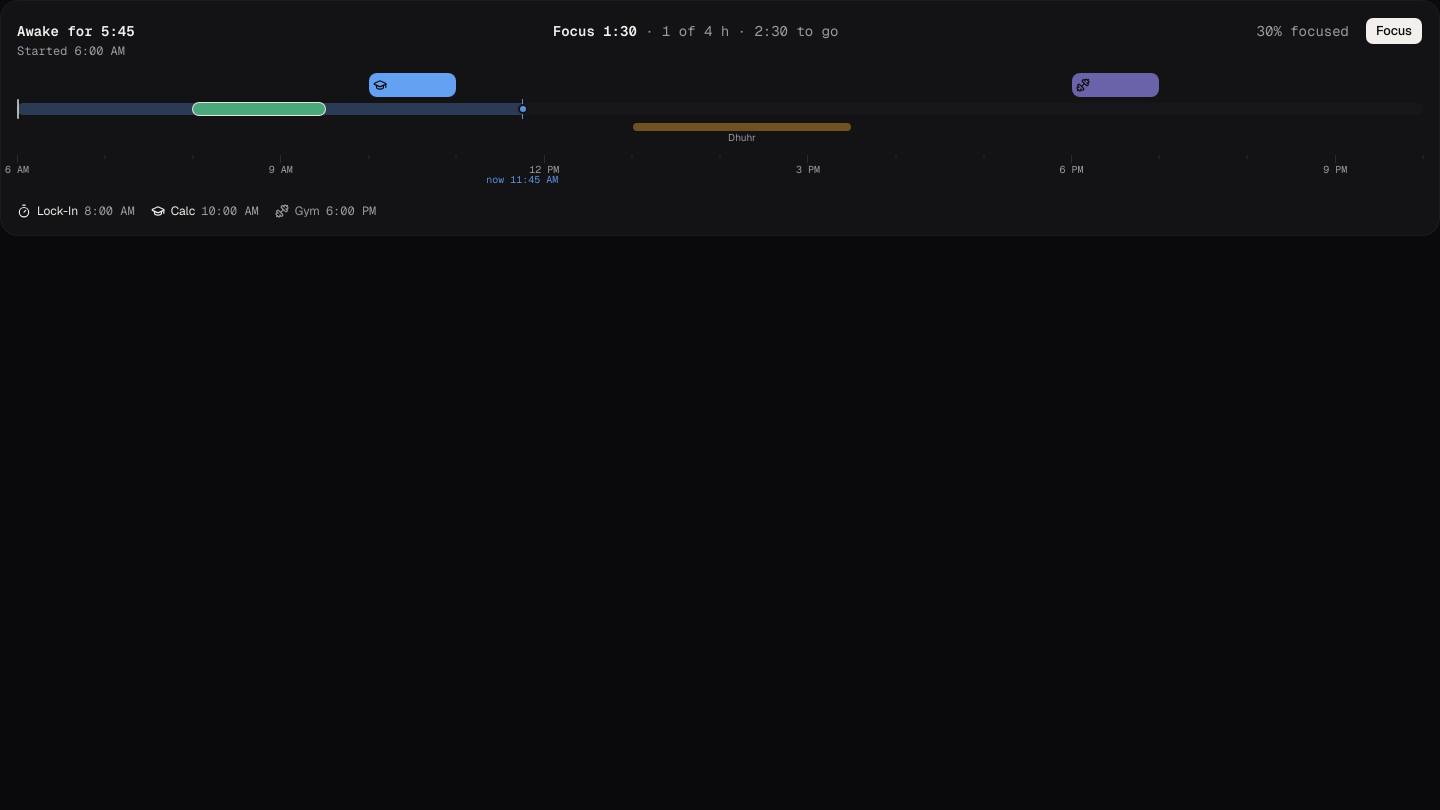
it: DayBar (HOME-02) › EVERY indicator opens a popover with its details: class, workout, focus block (and prayer, below)
Click the button named "Class: Calculus": (412, 85) [368, 73, 456, 97]
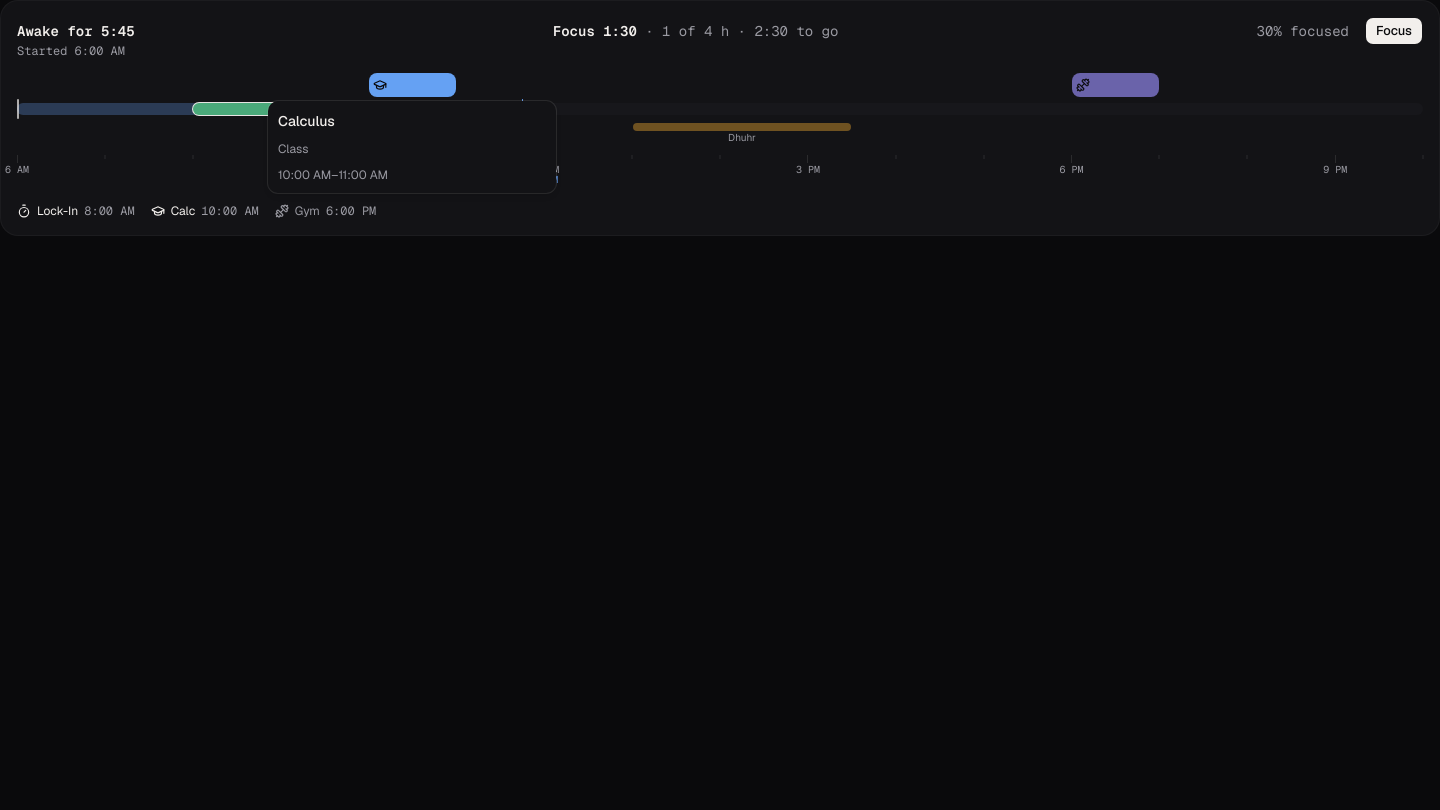
Result: the dialog with test id "indicator-popover" shows "Calculus" at [278, 112, 335, 130]
Result: the text with test id "indicator-time" reads "10:00 AM–11:00 AM" at [278, 167, 388, 183]
Press Escape
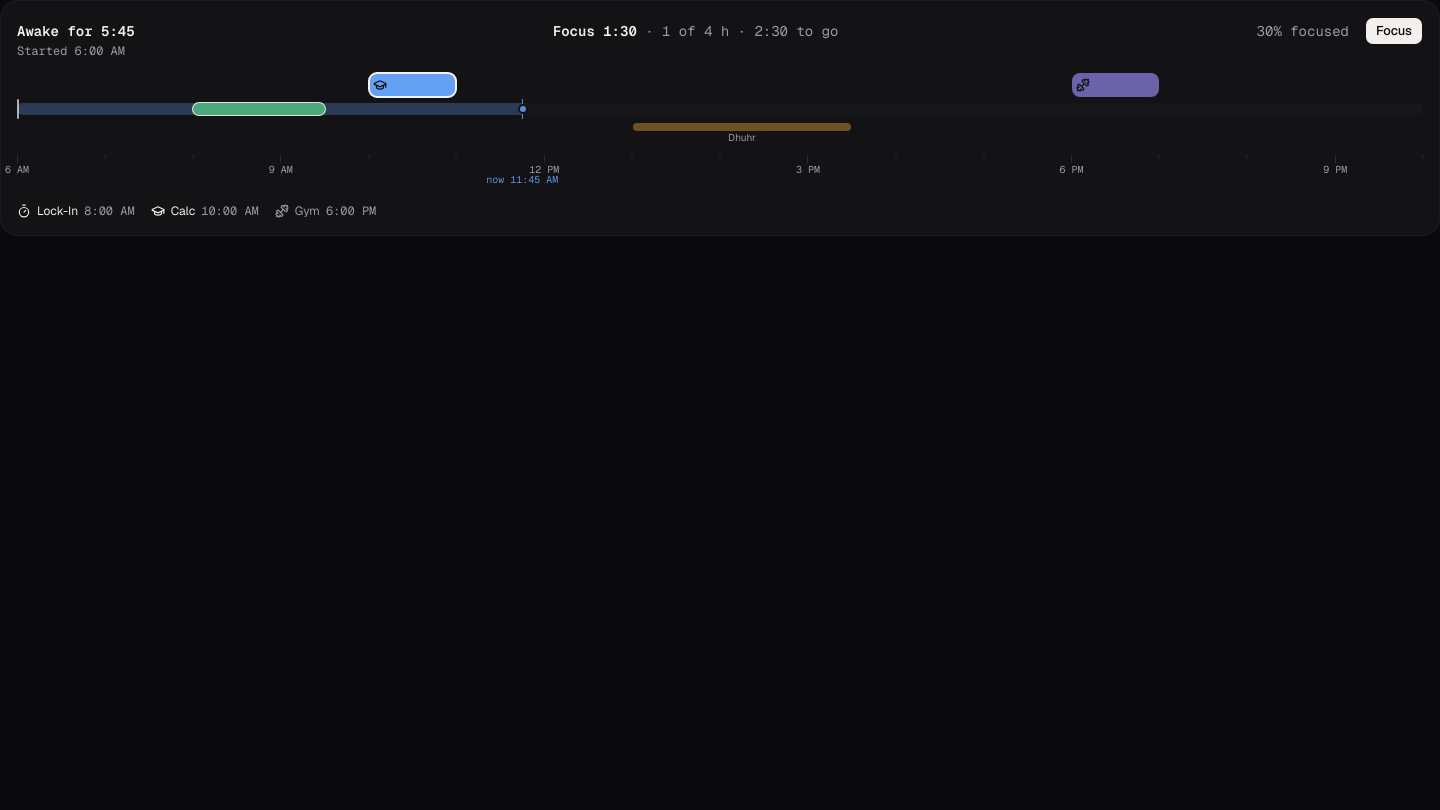
Click the button named "Workout: Gym": (1115, 85) [1072, 73, 1159, 97]
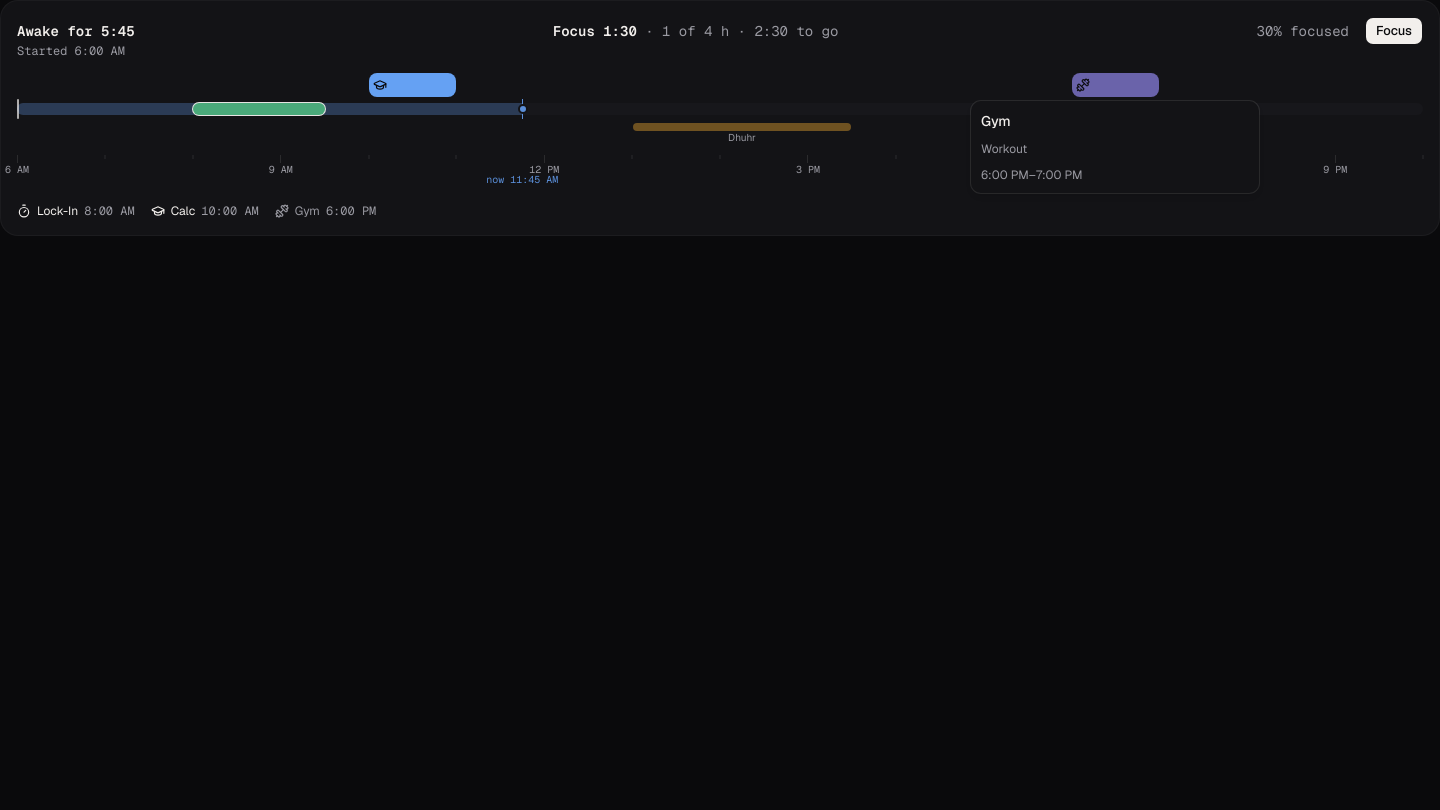
Result: the dialog with test id "indicator-popover" shows "Gym" at [981, 112, 1011, 130]
Press Escape
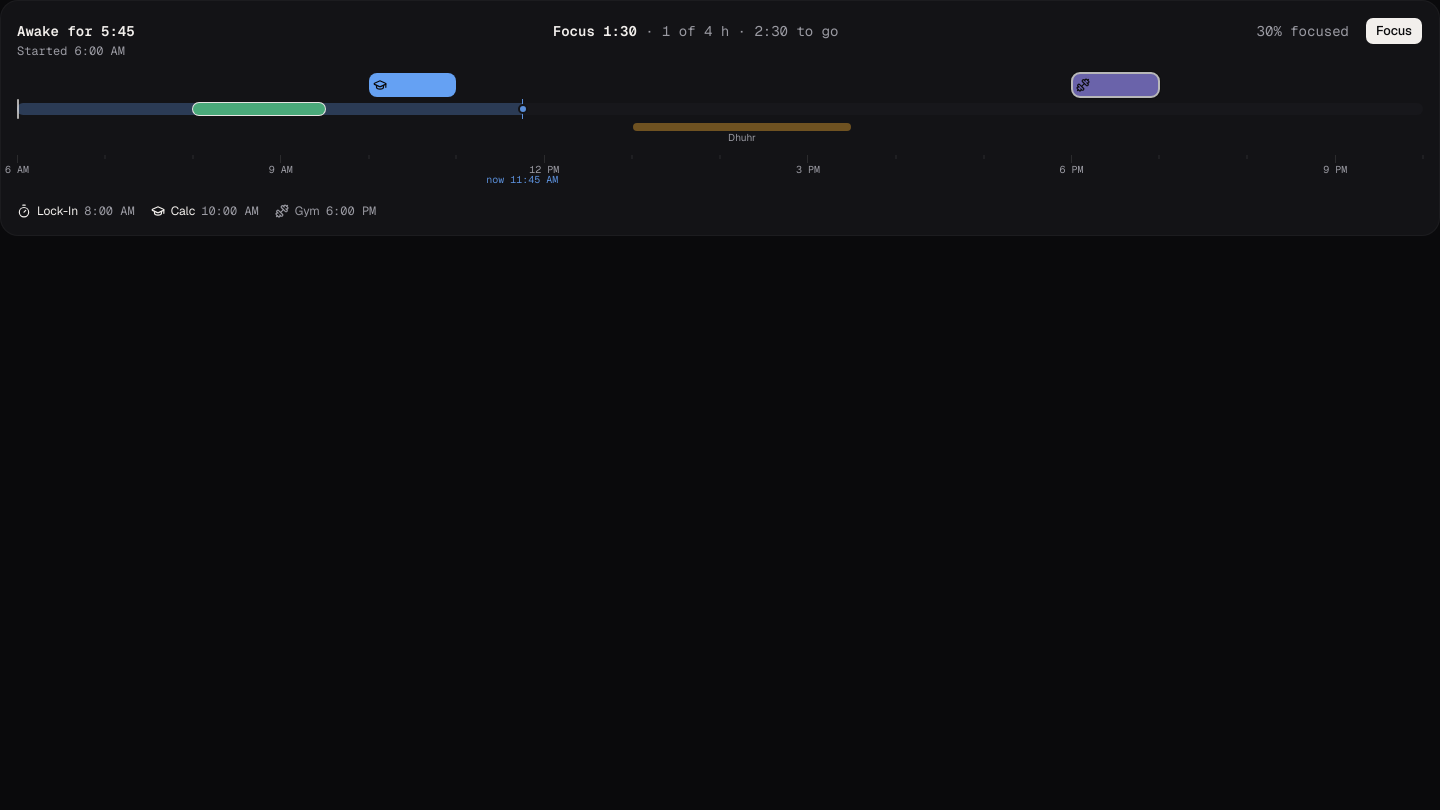
Click the button named "Focus: Lock-In": (259, 109) [193, 103, 325, 115]
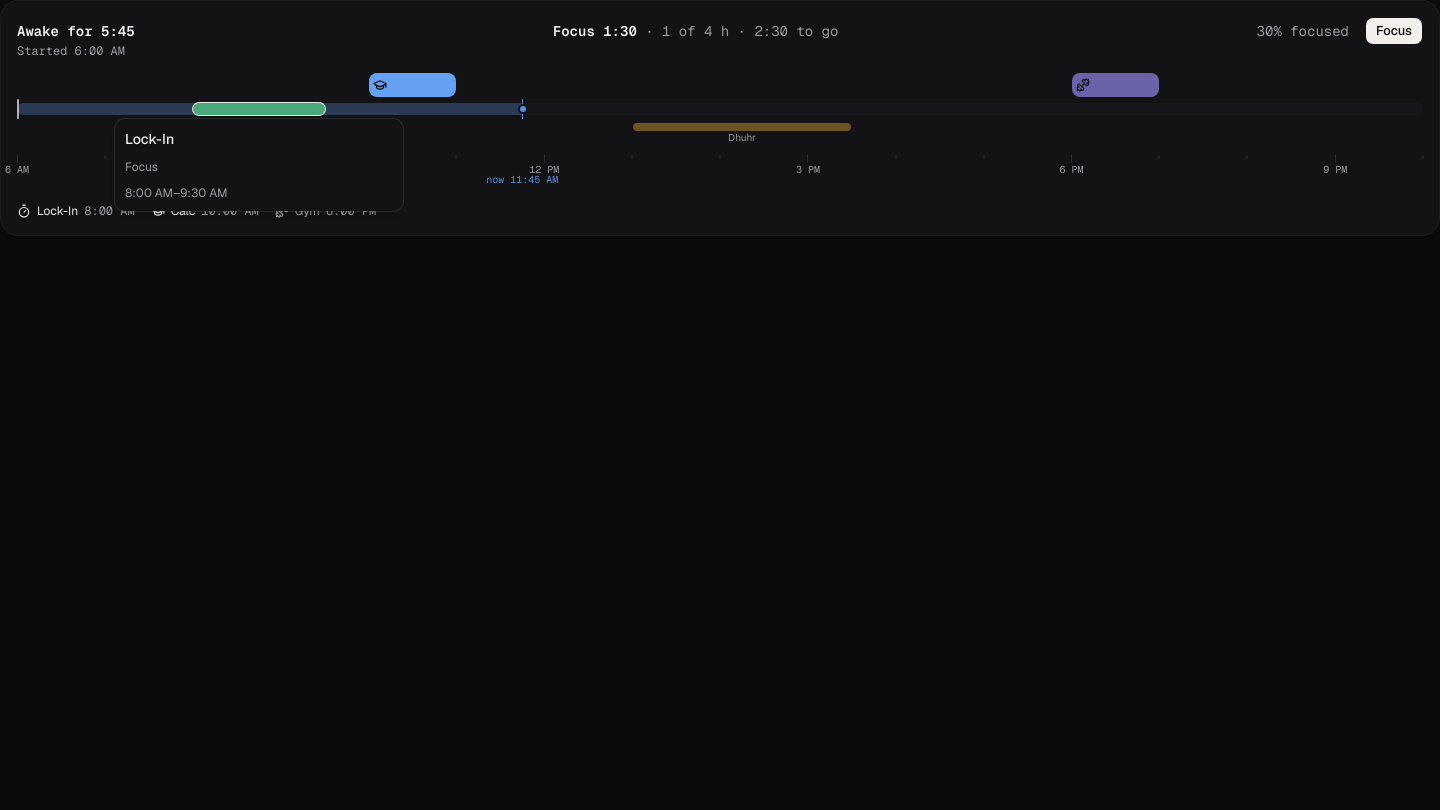
Result: the dialog with test id "indicator-popover" shows "Lock-In" at [125, 130, 174, 148]
Result: the text with test id "indicator-time" reads "8:00 AM–9:30 AM" at [125, 185, 228, 201]
